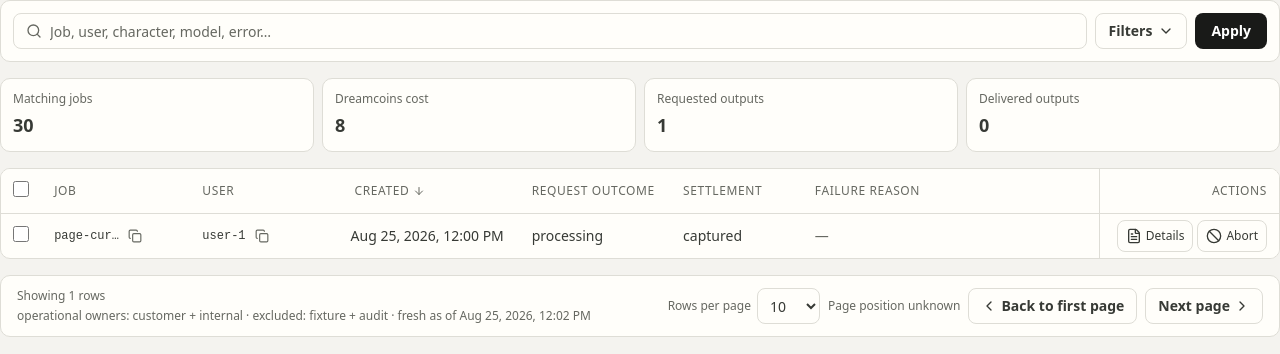
Scenario: JobsView request cancellation › does not invent page positions for a shared cursor or its following pages
expect the element with test id "admin-pagination" shows "Page position unknown": met, box [828,297,960,314]
expect the element with test id "admin-pagination" shows "Showing 1 rows": met, box [17,287,105,304]
What coordinates should you click on to do the following:
click the button "Next page"
I would click on:
 (1204, 306)
Its box is [1145,288,1263,324].
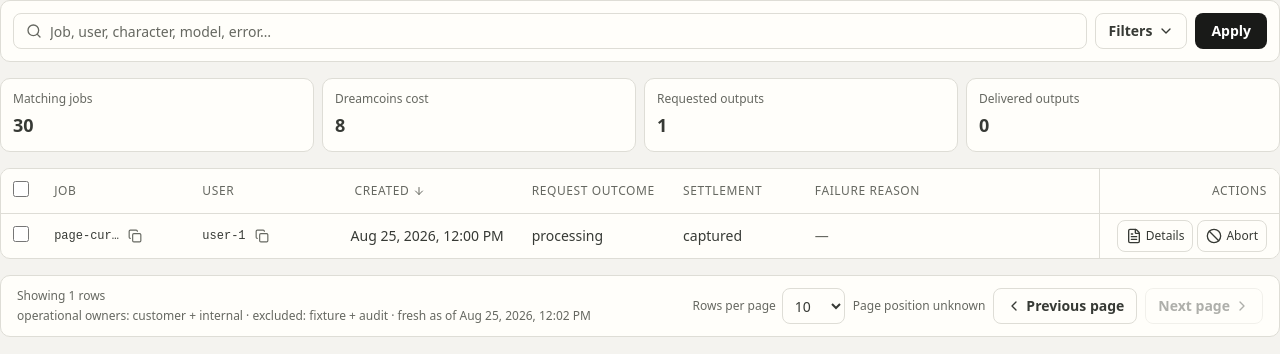
expect the element with test id "admin-pagination" shows "Page position unknown": met, box [853,297,985,314]
What coordinates should you click on to do the following:
click the button "Previous page"
I would click on:
 (1065, 306)
Its box is [993,288,1137,324].
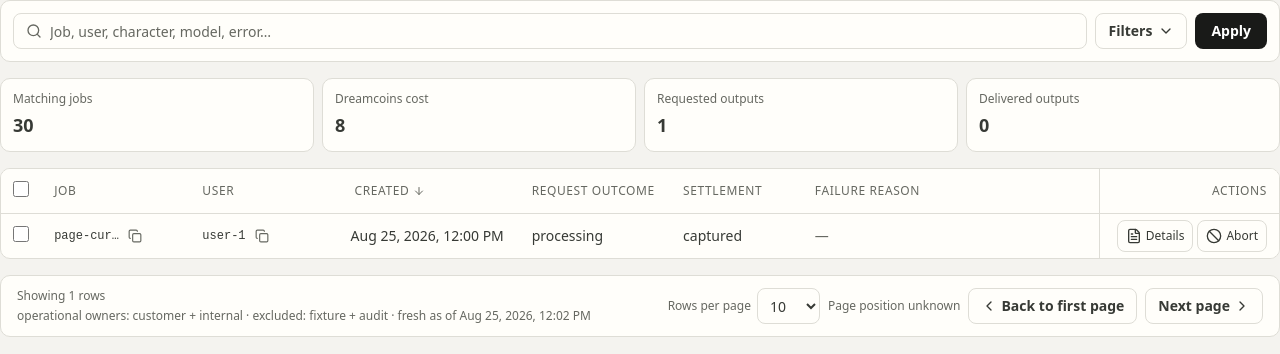
expect the element with test id "admin-pagination" shows "Page position unknown": met, box [828,297,960,314]
What coordinates should you click on to do the following:
click the button "Back to first page"
I would click on:
 (1053, 306)
Its box is [968,288,1137,324].
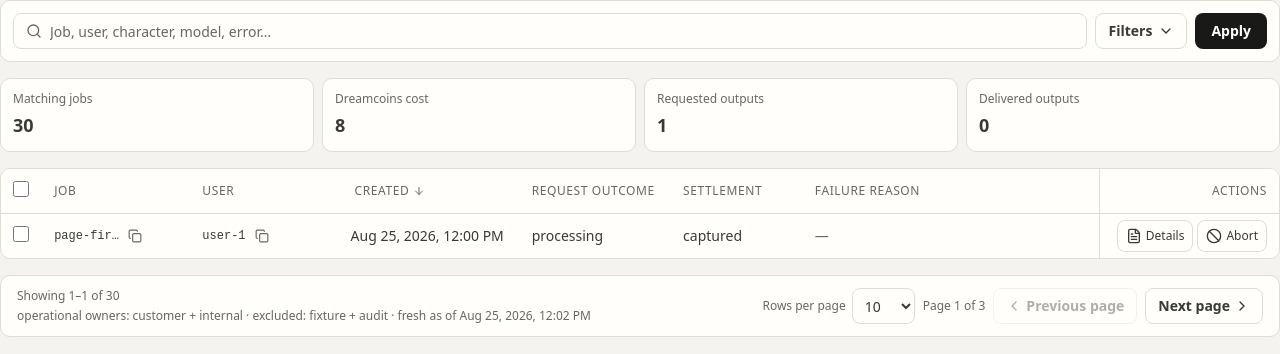
expect the element with test id "admin-pagination" shows "Page 1 of 3": met, box [923,297,985,314]
expect the button "Previous page" is disabled: met, box [993,288,1137,324]
